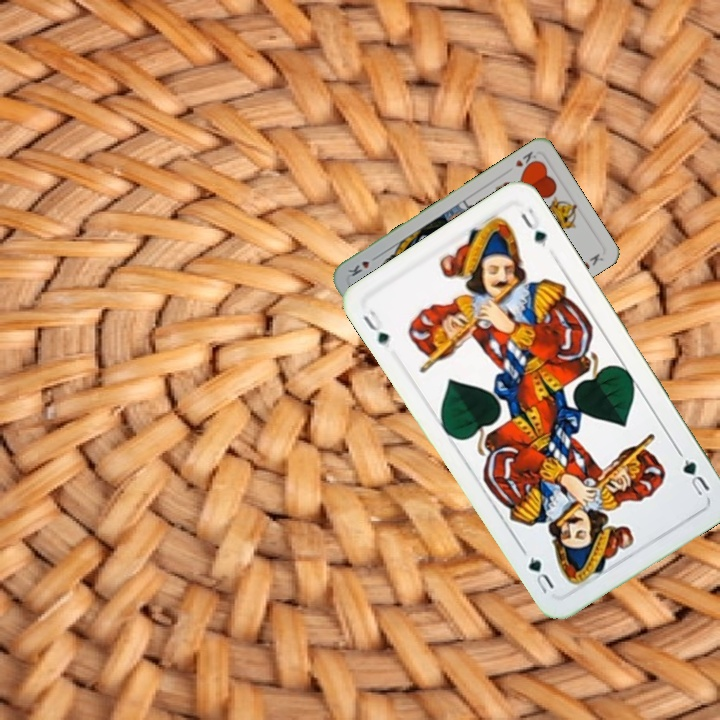GU: (678, 455, 713, 499), (359, 306, 392, 349)
HK: (511, 147, 542, 173)
